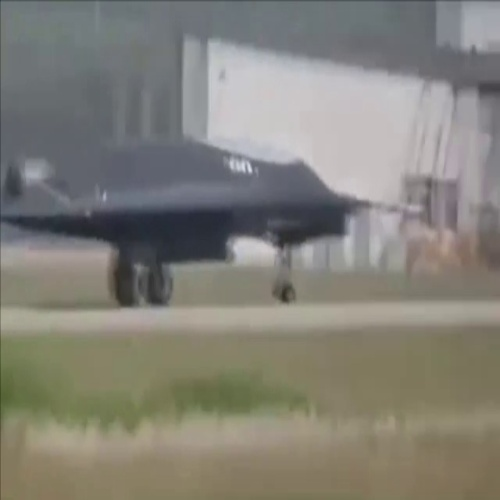uav1023: (1, 135, 416, 313)
